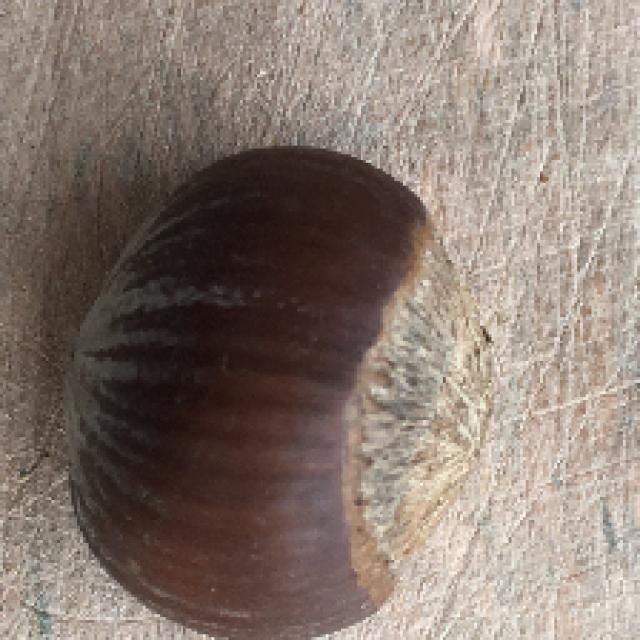DamagedHazelnut: (65, 146, 497, 634)
